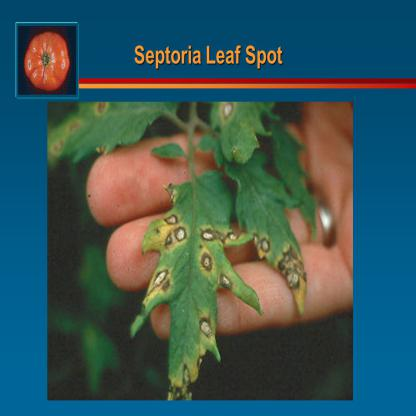tomato septoria leaf spot: (128, 177, 252, 398), (232, 147, 312, 317), (50, 104, 191, 173)
